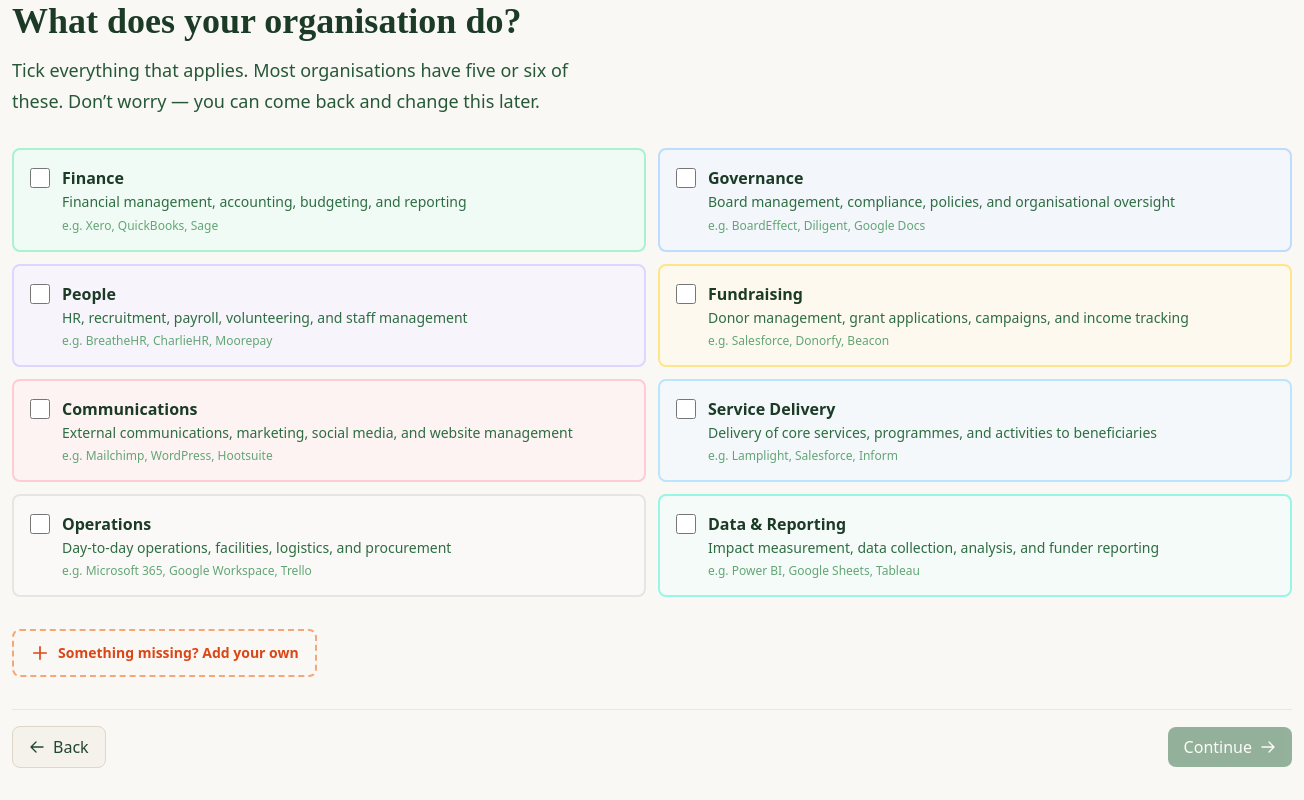
it: FunctionPicker › adds a custom function and enables Continue
The image size is (1304, 800).
Step 1. Click the button "Something missing? Add your own" → x=164, y=653, box top-left (12, 629), bottom-right (317, 677)
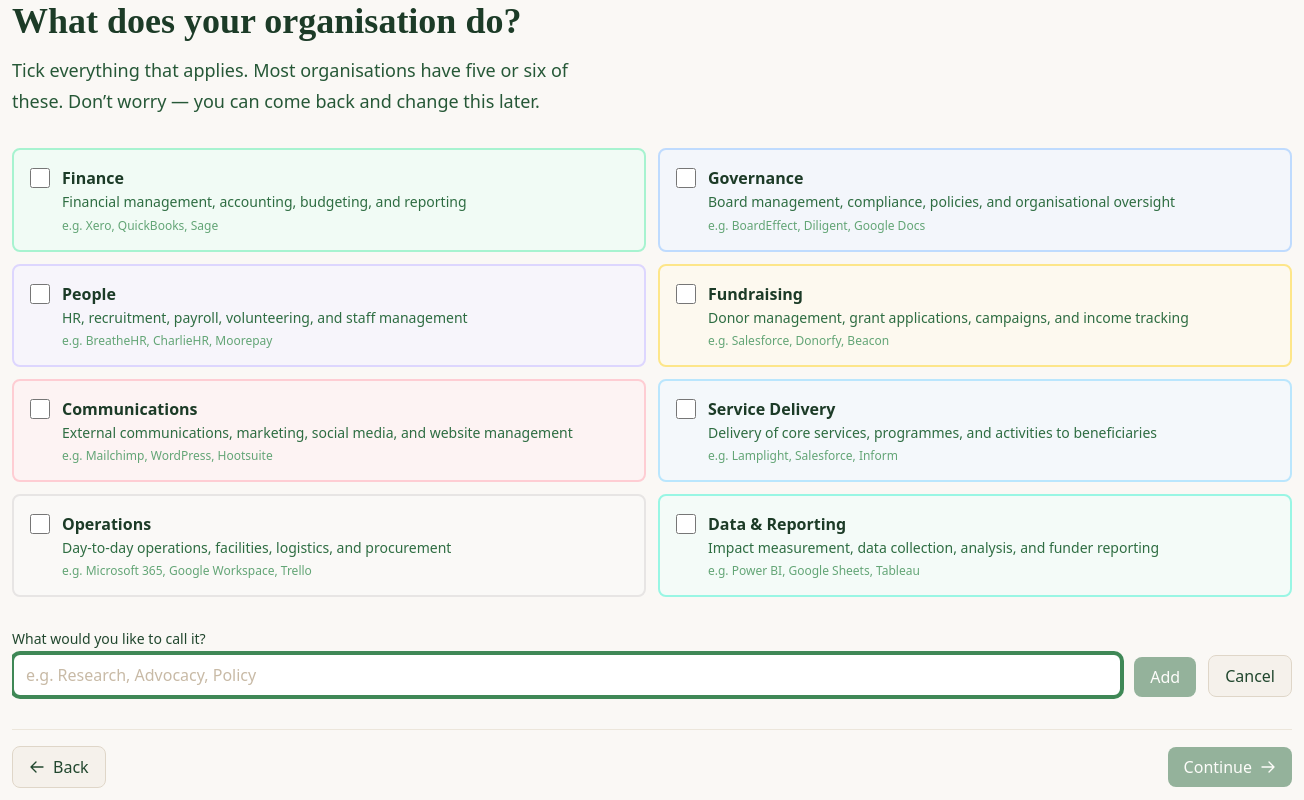
Step 2. Type "Advocacy" into the field labelled "What would you like to call it?" → x=567, y=675, box top-left (12, 653), bottom-right (1122, 697)
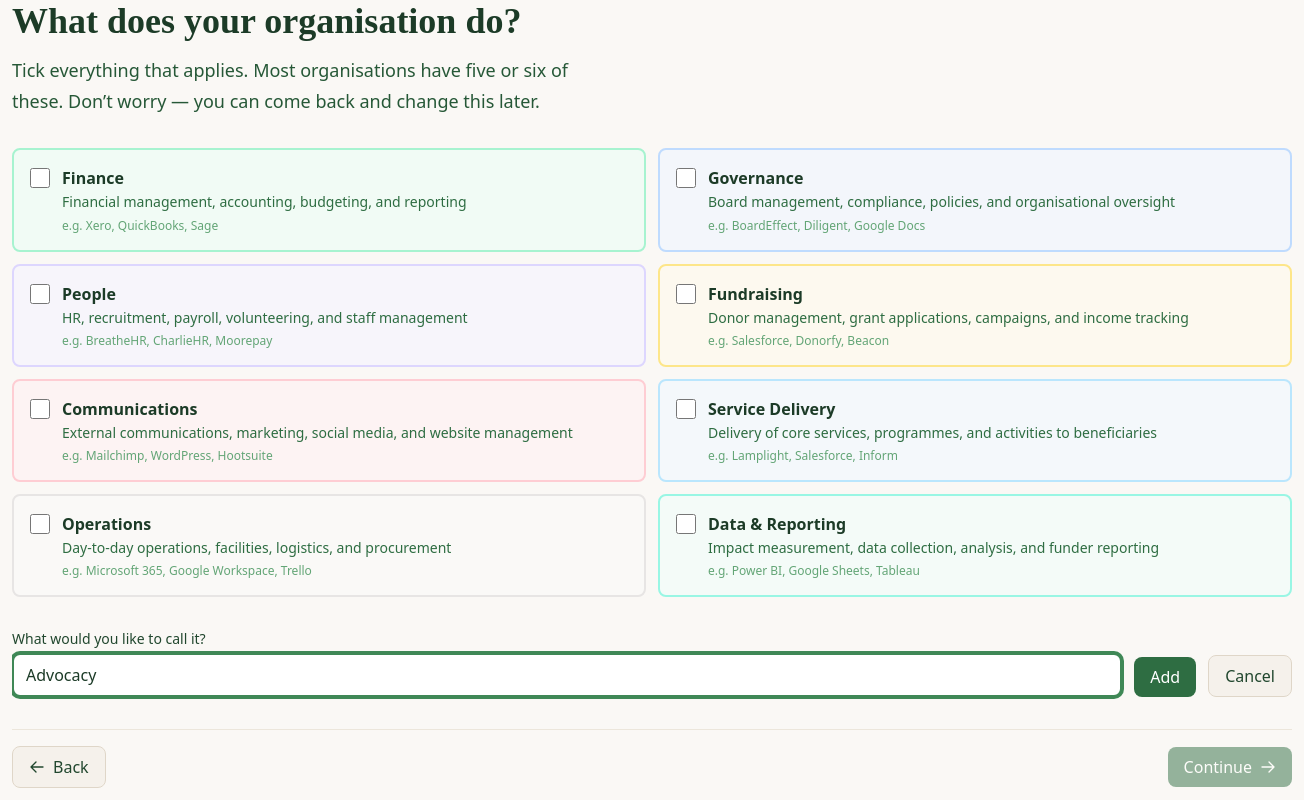
Step 3. Click the button "Add" → x=1165, y=677, box top-left (1134, 657), bottom-right (1196, 697)
(page scrolled)
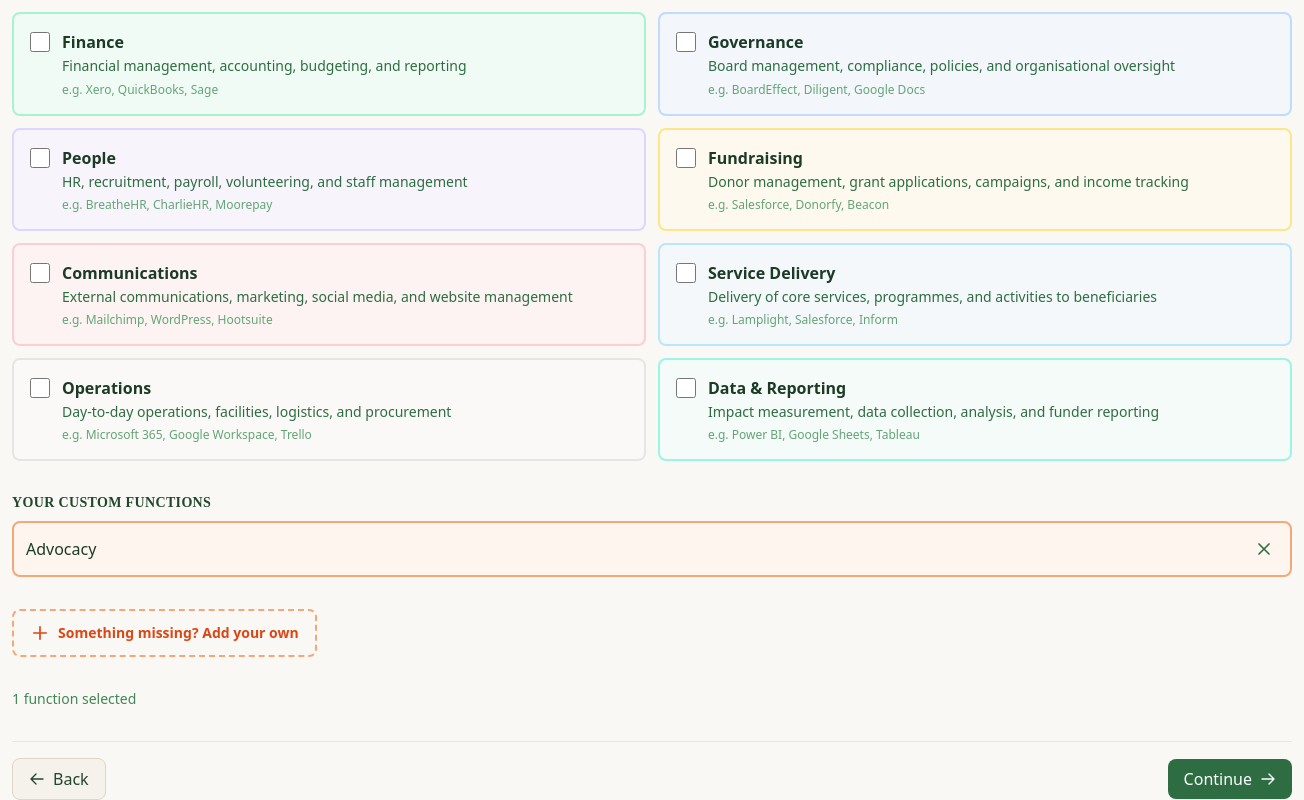
Expected: the text "Advocacy" is shown, top-left (26, 537), bottom-right (96, 561)
Expected: the button "Continue" is enabled, top-left (1168, 759), bottom-right (1292, 799)
